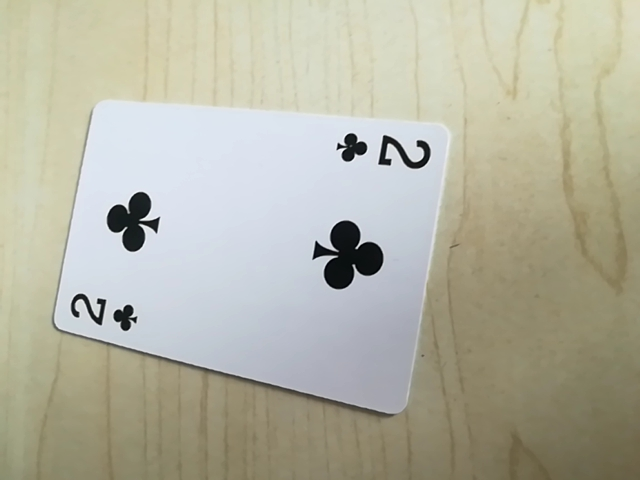mh 2: (330, 126, 435, 174), (63, 287, 146, 336)
